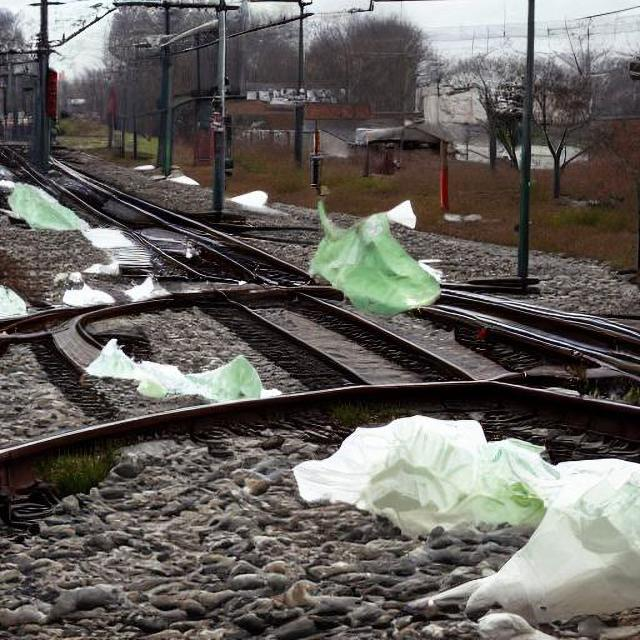floating object: (45, 66, 59, 120)
plastic bag: (301, 404, 554, 534), (469, 450, 637, 617), (312, 193, 466, 316), (90, 334, 290, 411), (12, 174, 90, 238), (62, 276, 122, 317), (92, 224, 140, 256), (124, 271, 160, 305), (0, 282, 26, 326), (230, 182, 270, 209)
